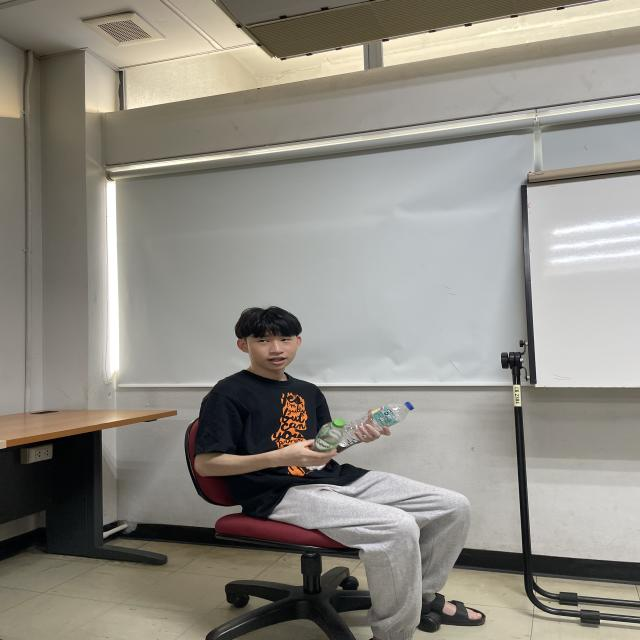bottle: (336, 398, 416, 448), (311, 418, 350, 453)
